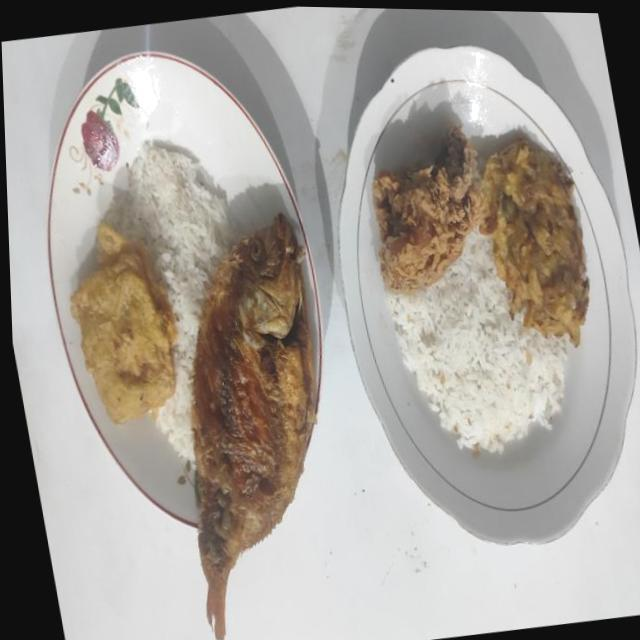ikan_mujair: (192, 212, 316, 640)
nasi_putih: (386, 227, 570, 453), (110, 144, 234, 463)
